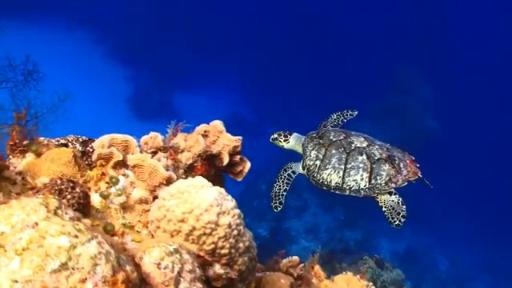Fish: (270, 110, 429, 226)
